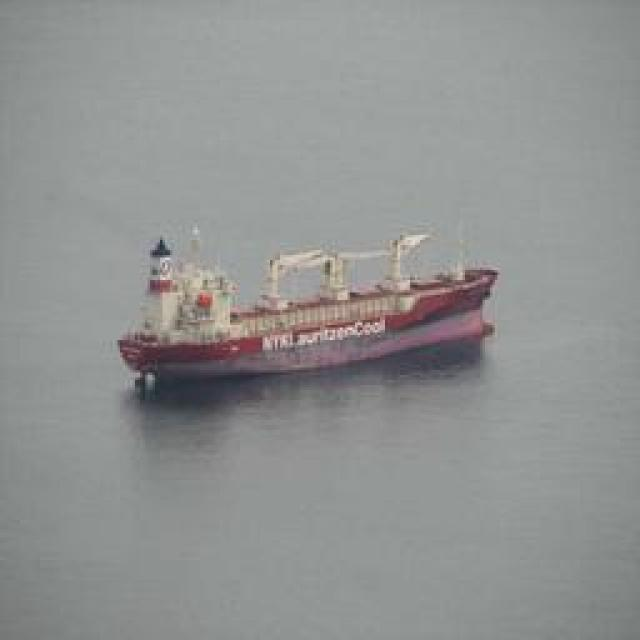ship2: (117, 225, 499, 399)
